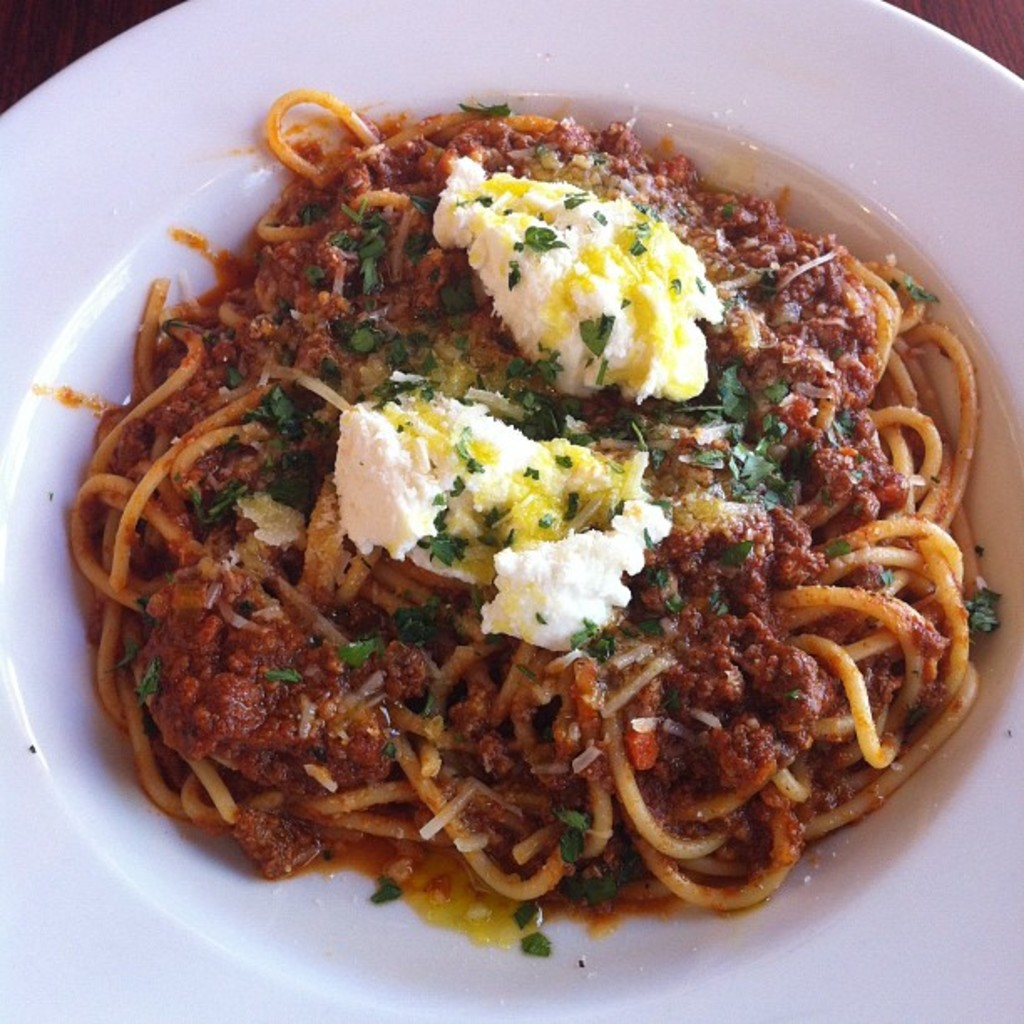pasta: (65, 85, 986, 940)
